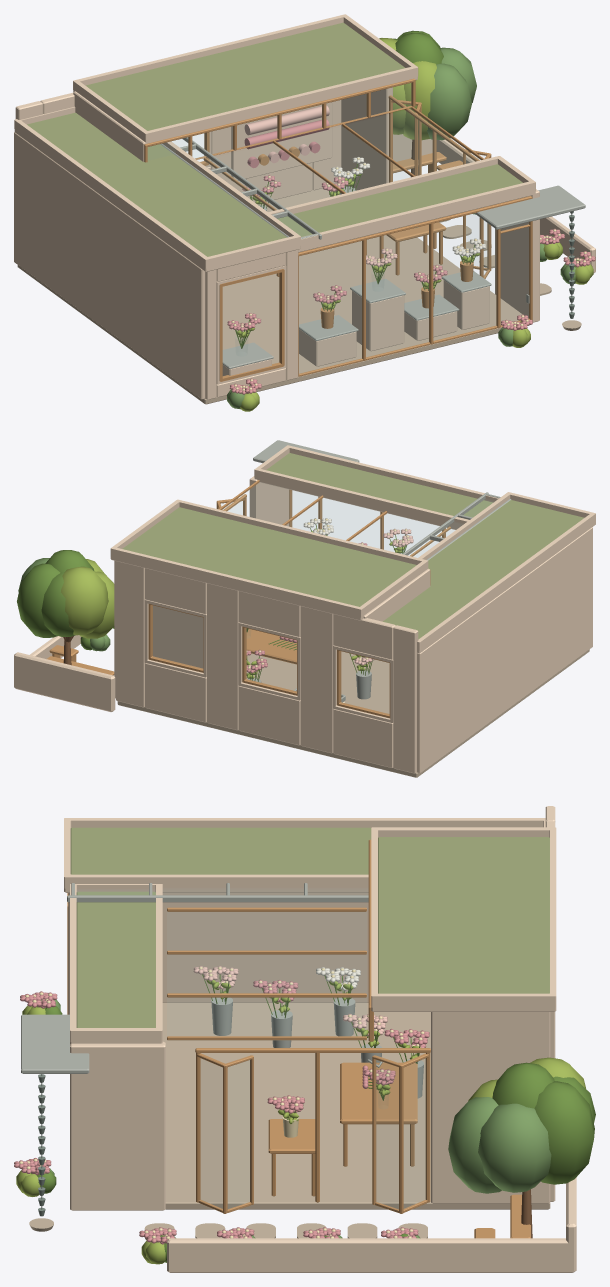
3 renders of one model, top to bottom at view 1: azimuth 30°, elevation 25°; view 2: azimuth 150°, elevation 25°; view 3: azimuth 270°, elevation 25°, orthographic. The views are drawn at different scales.
Parts seen in each view (by area): view 1: R 平屋面绿植层, A 左墙, R 乳白女儿墙, S 花店室内地面, I 鲜花展示石台, L 乔木 · 枝干与树冠, A 墙体, A 后右工作墙, I 石台银灰顶, I 花束花瓣, A 入口右墙, A 前店全高橱窗 (+26 smaller); view 2: R 平屋面绿植层, A 左墙, A 墙体, R 乳白女儿墙, A 窗下墙, L 乔木 · 枝干与树冠, A 窗上墙, S 花店室内地面, L 后花园低围墙, A 窗角实墙, I 包装纸架背板, R 错落平屋面 (+11 smaller); view 3: R 平屋面绿植层, S 花店室内地面, R 乳白女儿墙, A 左墙, L 乔木 · 枝干与树冠, A 入口右墙, L 右侧花园矮墙, A 后右工作墙, I 工作桌, I 花束花瓣, A 折叠庭院门扇, R 工作间细顶梁 (+16 smaller).
Part boxes in pixels (<box>): R 平屋面绿植层: <box>27,22,522,256</box>; A 左墙: <box>14,132,205,399</box>; R 乳白女儿墙: <box>14,14,535,268</box>; S 花店室内地面: <box>17,185,529,404</box>; I 鲜花展示石台: <box>222,280,489,375</box>; L 乔木 · 枝干与树冠: <box>379,30,476,177</box>; A 墙体: <box>15,100,341,399</box>; A 后右工作墙: <box>341,87,392,190</box>; I 石台银灰顶: <box>222,271,491,368</box>; I 花束花瓣: <box>227,157,595,394</box>; A 入口右墙: <box>495,189,539,322</box>; A 前店全高橱窗: <box>298,204,500,376</box>; R 平屋面绿植层: <box>122,453,584,639</box>; A 左墙: <box>417,527,592,773</box>; A 墙体: <box>116,561,418,773</box>; R 乳白女儿墙: <box>110,445,595,650</box>; A 窗下墙: <box>145,663,393,767</box>; L 乔木 · 枝干与树冠: <box>17,550,114,665</box>; A 窗上墙: <box>145,568,395,659</box>; S 花店室内地面: <box>117,649,589,777</box>; L 后花园低围墙: <box>14,652,115,711</box>; A 窗角实墙: <box>144,599,393,722</box>; I 包装纸架背板: <box>153,605,203,668</box>; R 错落平屋面: <box>110,478,595,653</box>; R 平屋面绿植层: <box>70,827,549,1027</box>; S 花店室内地面: <box>162,1002,550,1209</box>; R 乳白女儿墙: <box>64,818,556,1042</box>; A 左墙: <box>162,893,368,1002</box>; L 乔木 · 枝干与树冠: <box>448,1057,595,1238</box>; A 入口右墙: <box>70,1041,165,1210</box>; L 右侧花园矮墙: <box>167,1238,574,1272</box>; A 后右工作墙: <box>431,1012,550,1203</box>; I 工作桌: <box>268,1062,417,1196</box>; I 花束花瓣: <box>14,966,429,1244</box>; A 折叠庭院门扇: <box>196,1053,429,1213</box>; R 工作间细顶梁: <box>167,907,366,1040</box>.
Size of the model in its own units: 21.13 by 7.73 by 18.8.
